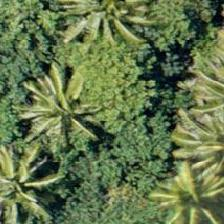coconut_tree: (13, 69, 103, 159), (142, 152, 223, 223), (62, 0, 152, 54), (0, 140, 52, 223)
